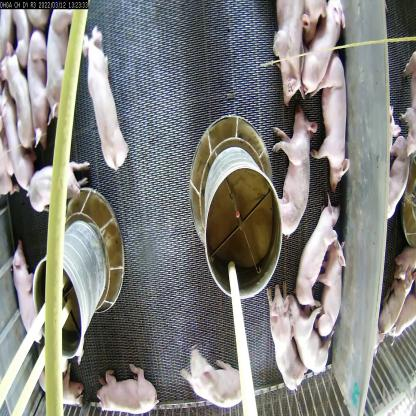Pig: (273, 93, 321, 246), (80, 22, 127, 174), (179, 344, 253, 412), (296, 205, 343, 312), (264, 282, 304, 397), (27, 152, 87, 224), (298, 0, 341, 98), (319, 55, 350, 189), (288, 298, 336, 382), (6, 246, 43, 348), (92, 357, 157, 415), (315, 236, 348, 339), (37, 9, 70, 108), (23, 22, 49, 144)
